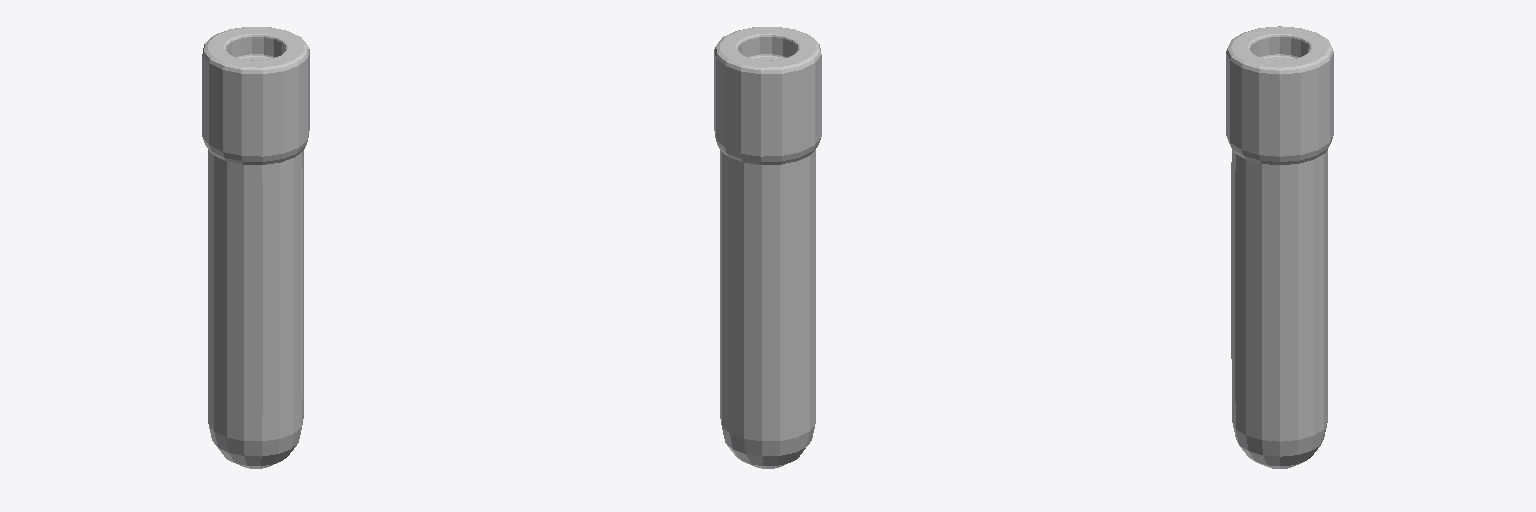
The model's file is khalilAnderson_vial.001.obj.
The picture shows the model from 3 angles: view 1: azimuth 30°, elevation 25°; view 2: azimuth 150°, elevation 25°; view 3: azimuth 270°, elevation 25°; orthographic projection.
Bounding box in the file's own units: 0.8141 × 3.47 × 0.8141.